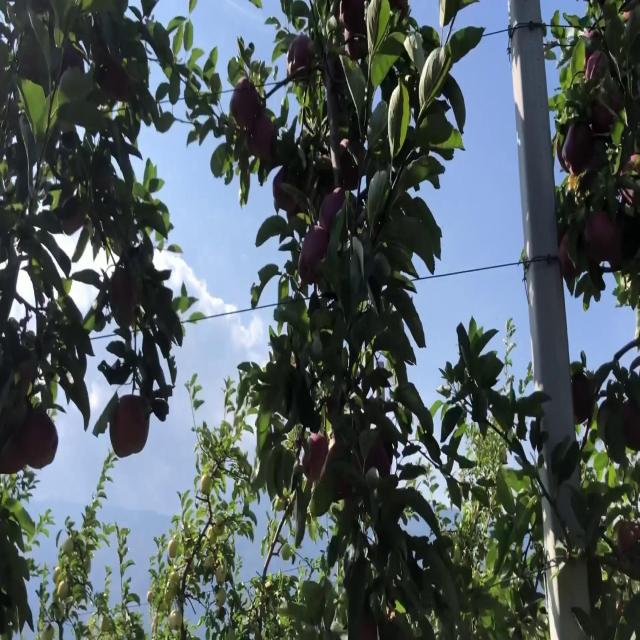apple: (112, 398, 151, 460), (108, 263, 139, 325), (300, 227, 331, 288), (28, 412, 60, 471), (564, 120, 595, 176), (340, 7, 368, 66), (588, 213, 619, 265), (232, 78, 261, 133), (584, 28, 609, 91), (328, 440, 351, 507), (252, 106, 278, 165), (300, 433, 328, 487), (288, 35, 318, 84), (320, 184, 347, 238), (272, 165, 298, 217), (336, 142, 361, 192), (104, 63, 130, 105), (620, 156, 640, 210), (560, 234, 581, 283), (4, 433, 27, 476), (372, 440, 394, 480), (624, 398, 640, 453), (340, 1, 367, 32), (592, 106, 615, 139), (620, 519, 640, 556), (64, 213, 85, 236), (360, 618, 377, 639), (168, 540, 180, 562)
